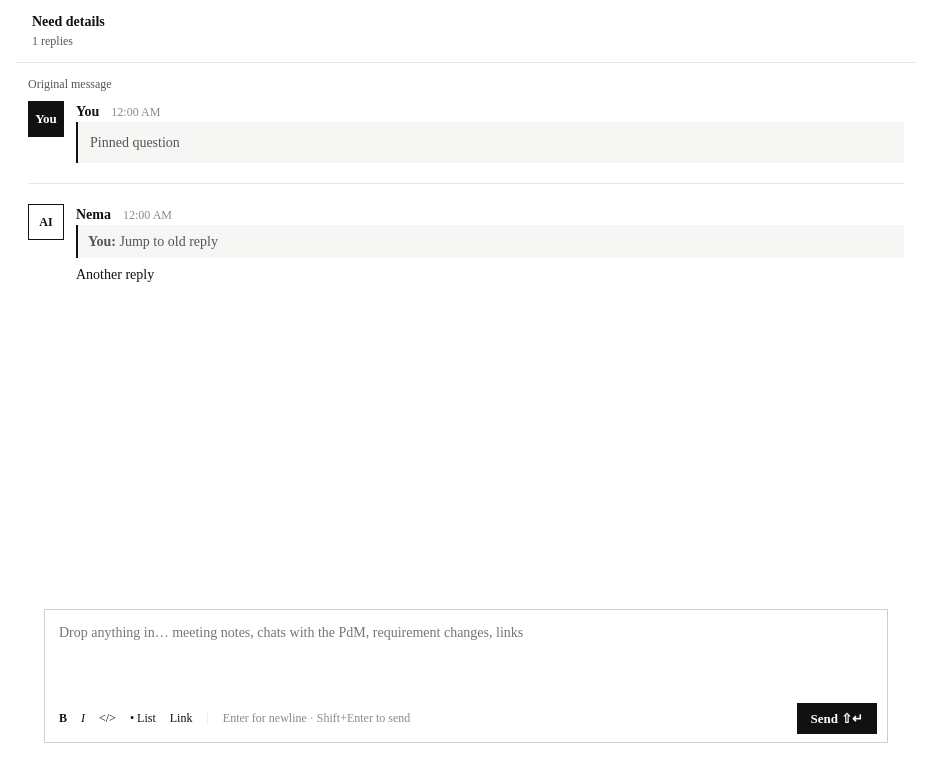
Scenario: ThreadView › fetches, renders, and scrolls to a same-thread target outside the loaded batch
The width and height of the screenshot is (933, 760).
Click the button "You: Jump to old reply". click: (169, 242)
box: [76, 225, 904, 258]
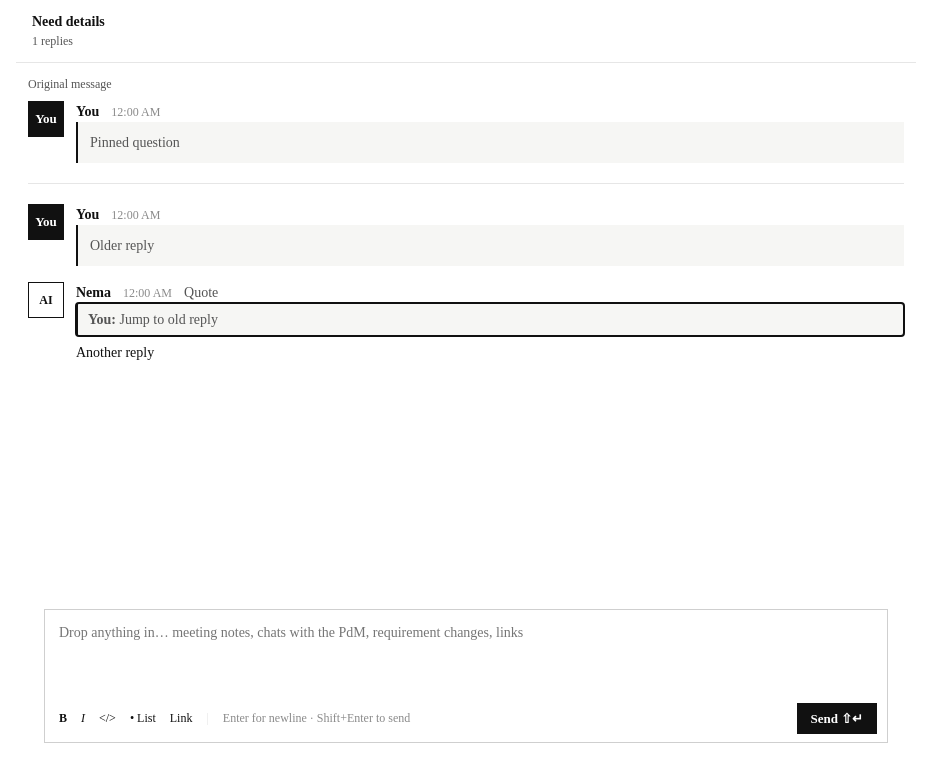
Now the text "Older reply" is shown, box [90, 238, 154, 253]
